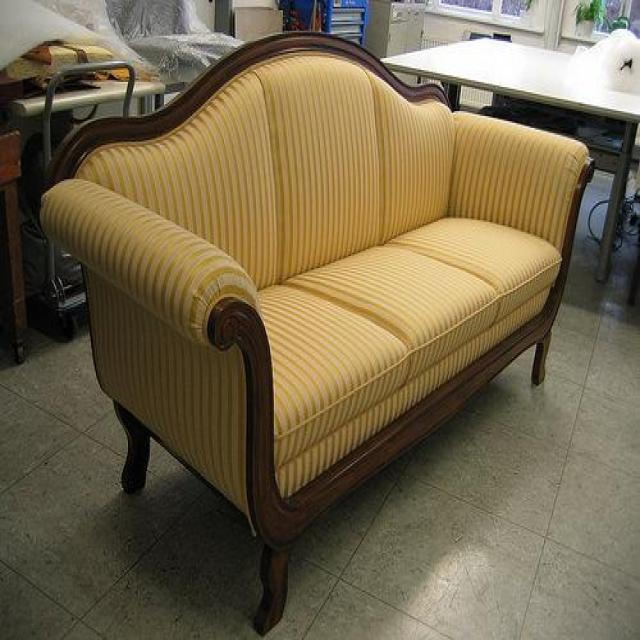sofa: (37, 29, 594, 635)
